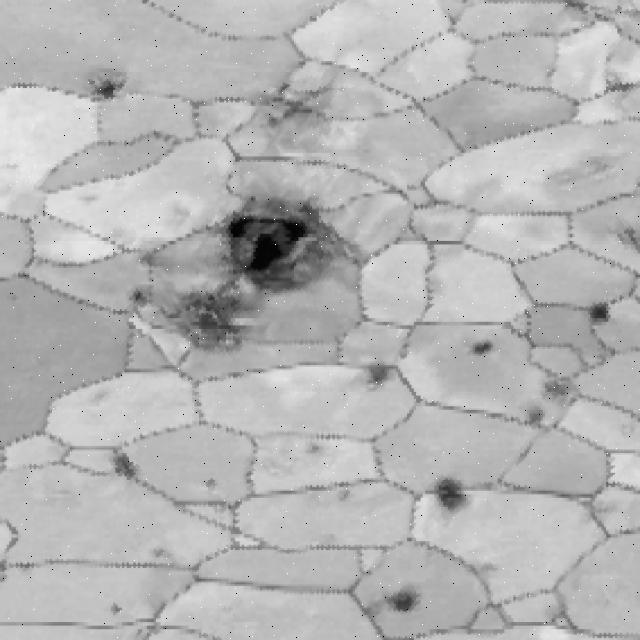good_void: (214, 197, 348, 304), (113, 278, 253, 368), (232, 73, 354, 148), (81, 72, 128, 112), (372, 587, 427, 620), (434, 475, 467, 514), (112, 440, 142, 482), (363, 362, 399, 393), (474, 560, 508, 581), (585, 501, 615, 523), (468, 340, 503, 357), (545, 378, 571, 399), (303, 437, 327, 459), (618, 230, 640, 253), (331, 490, 356, 509), (526, 406, 546, 427), (203, 477, 229, 492), (148, 547, 172, 561), (589, 311, 608, 328), (108, 607, 133, 617)
